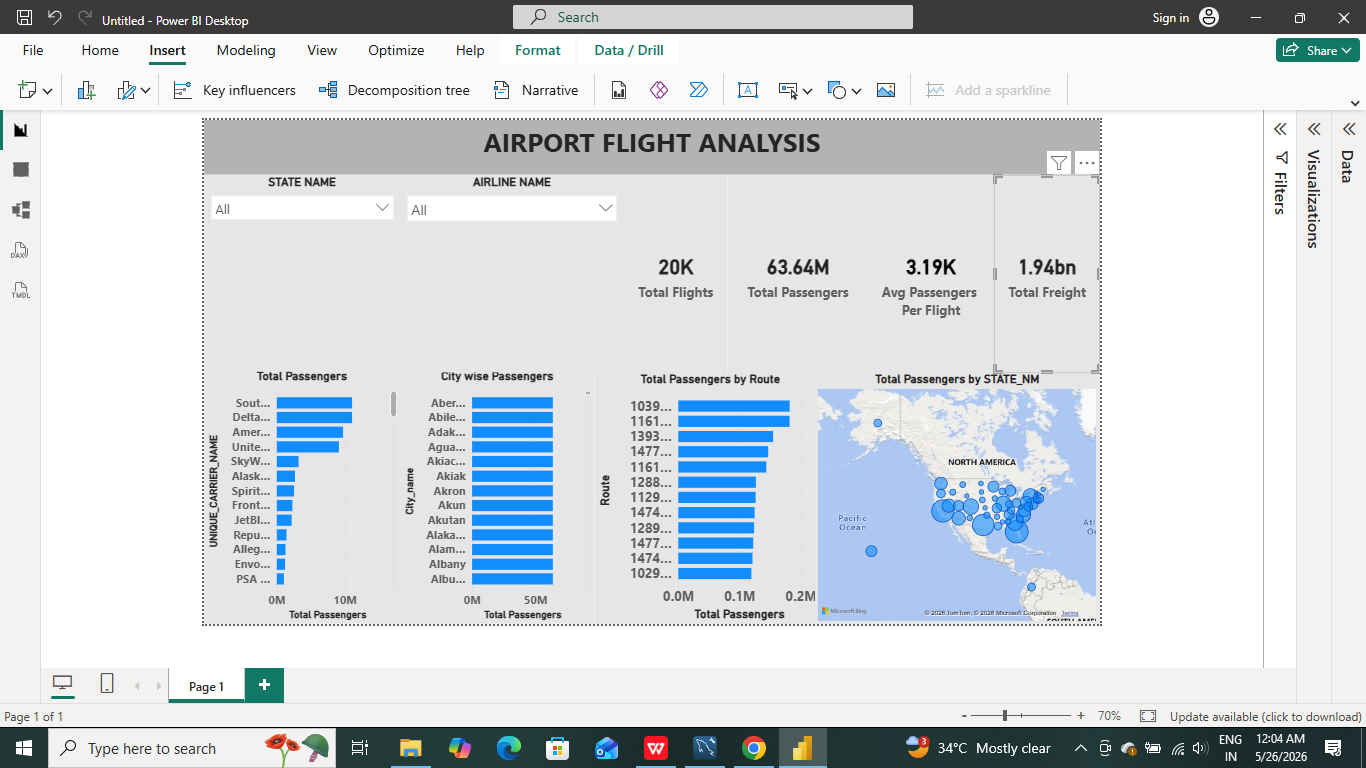

What the dashboard file says about the page in this screenshot:
{"tool":"powerbi","page":{"name":"Page 1","canvas":[1280,720],"ordinal":0},"visuals":[{"type":"card","fields":{"Values":["flight_analysis flightmetrics.Total Passengers"]},"box":[748,78,200,284],"z":0},{"type":"card","fields":{"Values":["flight_analysis flightmetrics.Total Flights"]},"box":[600,78,148,284],"z":1},{"type":"card","fields":{"Values":["flight_analysis flightmetrics.Total Freight"]},"box":[1128,78,152,284],"z":2},{"type":"card","fields":{"Values":["flight_analysis flightmetrics.Avg Passengers Per Flight"]},"box":[948,78,180,284],"z":3},{"type":"clusteredBarChart","title":"Total Passengers","fields":{"Category":["flight_analysis airline.UNIQUE_CARRIER_NAME"],"Y":["flight_analysis flightmetrics.Total Passengers"]},"box":[0,356,280,364],"z":4},{"type":"clusteredBarChart","title":"City wise Passengers","fields":{"Category":["flight_analysis city.City_name"],"Y":["flight_analysis flightmetrics.Total Passengers"]},"box":[280,356,278,364],"z":5},{"type":"clusteredBarChart","fields":{"Category":["flight_analysis flight.Route"],"Y":["flight_analysis flightmetrics.Total Passengers"]},"box":[558,360,330,360],"z":6},{"type":"map","fields":{"Category":["flight_analysis airport.STATE_NM"],"Size":["flight_analysis flightmetrics.Total Passengers"]},"box":[873.5,359.5,406.5,361.2],"z":7},{"type":"slicer","title":"AIRLINE NAME","fields":{"Values":["flight_analysis airline.UNIQUE_CARRIER_NAME"]},"box":[280,78,320,282],"z":8},{"type":"slicer","title":"STATE NAME","fields":{"Values":["flight_analysis city.STATE_NM"]},"box":[0,79,280.5,280.5],"z":9},{"type":"textbox","box":[0,0,1280,78],"z":10}]}

Visuals, with their boxes on the page's 1280x720 design canvas (x1, y1, x2, y2). These are canvas units, not pixel positions in the 1366x768 screenshot, which may show the page scaled, cropped or inside an application window:
card - flight_analysis flightmetrics.Total Passengers: left=748, top=78, right=948, bottom=362
card - flight_analysis flightmetrics.Total Flights: left=600, top=78, right=748, bottom=362
card - flight_analysis flightmetrics.Total Freight: left=1128, top=78, right=1280, bottom=362
card - flight_analysis flightmetrics.Avg Passengers Per Flight: left=948, top=78, right=1128, bottom=362
"Total Passengers" clusteredBarChart: left=0, top=356, right=280, bottom=720
"City wise Passengers" clusteredBarChart: left=280, top=356, right=558, bottom=720
clusteredBarChart - flight_analysis flight.Route x flight_analysis flightmetrics.Total Passengers: left=558, top=360, right=888, bottom=720
map - flight_analysis airport.STATE_NM x flight_analysis flightmetrics.Total Passengers: left=874, top=360, right=1280, bottom=721
"AIRLINE NAME" slicer: left=280, top=78, right=600, bottom=360
"STATE NAME" slicer: left=0, top=79, right=280, bottom=360
textbox: left=0, top=0, right=1280, bottom=78
